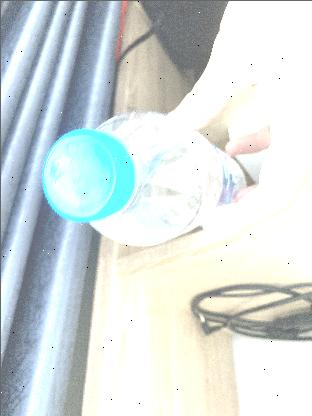Plastic Bottle: (38, 108, 252, 250)
